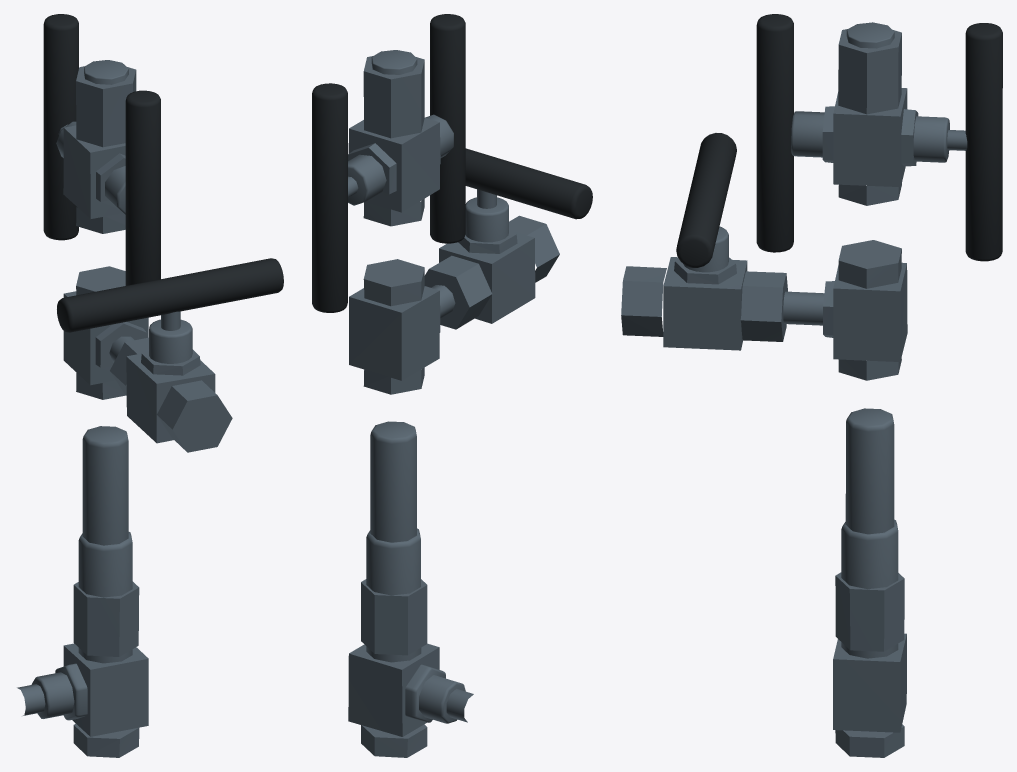
File: 仪表阀组.glb
3 renders of one model, left to right at view 1: azimuth 30°, elevation 25°; view 2: azimuth 150°, elevation 25°; view 3: azimuth 270°, elevation 25°, orthographic. The views are drawn at different scales.
Visible parts, largest first — view 1: 阀组_横向操作杆, 阀组_操作杆_01, 阀组_操作杆_02, 仪表阀组_连接件_23, 仪表阀组_连接件_67, 仪表阀组_连接件_35, 仪表阀组_连接件_62, 仪表阀组_连接件_42, 仪表阀组_连接件_70, 仪表阀组_连接件_20, 仪表阀组_连接件_69, 仪表阀组_连接件_68 (+14 smaller); view 2: 阀组_操作杆_02, 阀组_操作杆_01, 仪表阀组_连接件_68, 仪表阀组_连接件_23, 仪表阀组_连接件_67, 阀组_横向操作杆, 仪表阀组_连接件_69, 仪表阀组_连接件_35, 仪表阀组_连接件_42, 仪表阀组_连接件_70, 仪表阀组_连接件_20, 仪表阀组_连接件_60 (+14 smaller); view 3: 阀组_操作杆_02, 阀组_操作杆_01, 仪表阀组_连接件_23, 仪表阀组_连接件_68, 仪表阀组_连接件_70, 仪表阀组_连接件_67, 仪表阀组_连接件_69, 阀组_横向操作杆, 仪表阀组_连接件_35, 仪表阀组_连接件_42, 仪表阀组_连接件_20, 仪表阀组_连接件_60 (+13 smaller).
Boxes of the visible parts, x1,y1,x2,y2 form: 阀组_横向操作杆: (57,258,283,332); 阀组_操作杆_01: (125,90,160,285); 阀组_操作杆_02: (43,14,78,240); 仪表阀组_连接件_23: (82,426,128,545); 仪表阀组_连接件_67: (63,643,148,736); 仪表阀组_连接件_35: (73,581,139,656); 仪表阀组_连接件_62: (157,380,232,452); 仪表阀组_连接件_42: (76,66,136,147); 仪表阀组_连接件_70: (126,353,215,443); 仪表阀组_连接件_20: (78,532,132,663); 仪表阀组_连接件_69: (63,125,125,218); 仪表阀组_连接件_68: (63,291,148,385); 阀组_操作杆_02: (312,83,347,312); 阀组_操作杆_01: (430,14,465,243); 仪表阀组_连接件_68: (349,286,439,380); 仪表阀组_连接件_23: (370,421,416,542); 仪表阀组_连接件_67: (348,643,439,736); 阀组_横向操作杆: (465,148,592,219); 仪表阀组_连接件_69: (348,118,439,212); 仪表阀组_连接件_35: (361,579,427,655); 仪表阀组_连接件_42: (363,56,424,138); 仪表阀组_连接件_70: (439,232,535,323); 仪表阀组_连接件_20: (366,528,421,662); 仪表阀组_连接件_60: (424,255,492,329); 阀组_操作杆_02: (965,23,1002,261); 阀组_操作杆_01: (756,14,793,252); 仪表阀组_连接件_23: (845,408,894,534); 仪表阀组_连接件_68: (833,262,907,361); 仪表阀组_连接件_70: (663,257,747,350); 仪表阀组_连接件_67: (833,633,906,732); 仪表阀组_连接件_69: (833,88,907,187); 阀组_横向操作杆: (676,133,736,267); 仪表阀组_连接件_35: (835,572,904,651); 仪表阀组_连接件_42: (838,29,901,114); 仪表阀组_连接件_20: (841,519,898,658); 仪表阀组_连接件_60: (740,271,787,341).
Size of the model in its own units: 0.0406 by 0.1286 by 0.0618.
